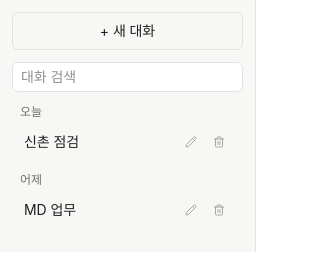
ConversationSidebar › filters by search box
Type "신촌" into the search field at (128, 77), box [12, 62, 243, 92]
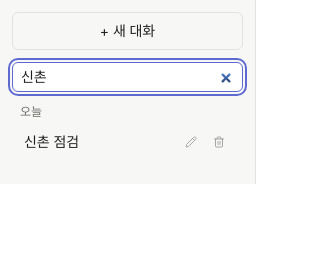
Expected: the button "신촌 점검" is shown, [24, 132, 175, 152]
Expected: the button "MD 업무" is gone
